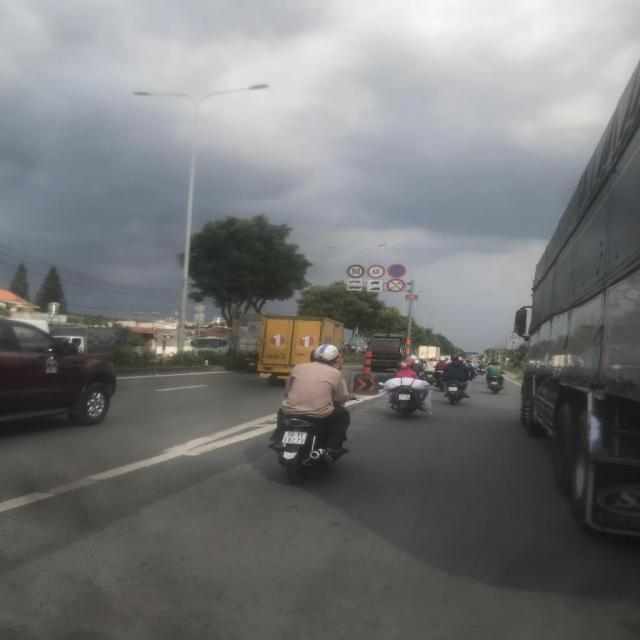127-toc-do-toi-da-60: (367, 264, 385, 278)
127-toc-do-toi-da-80: (348, 264, 364, 278)
